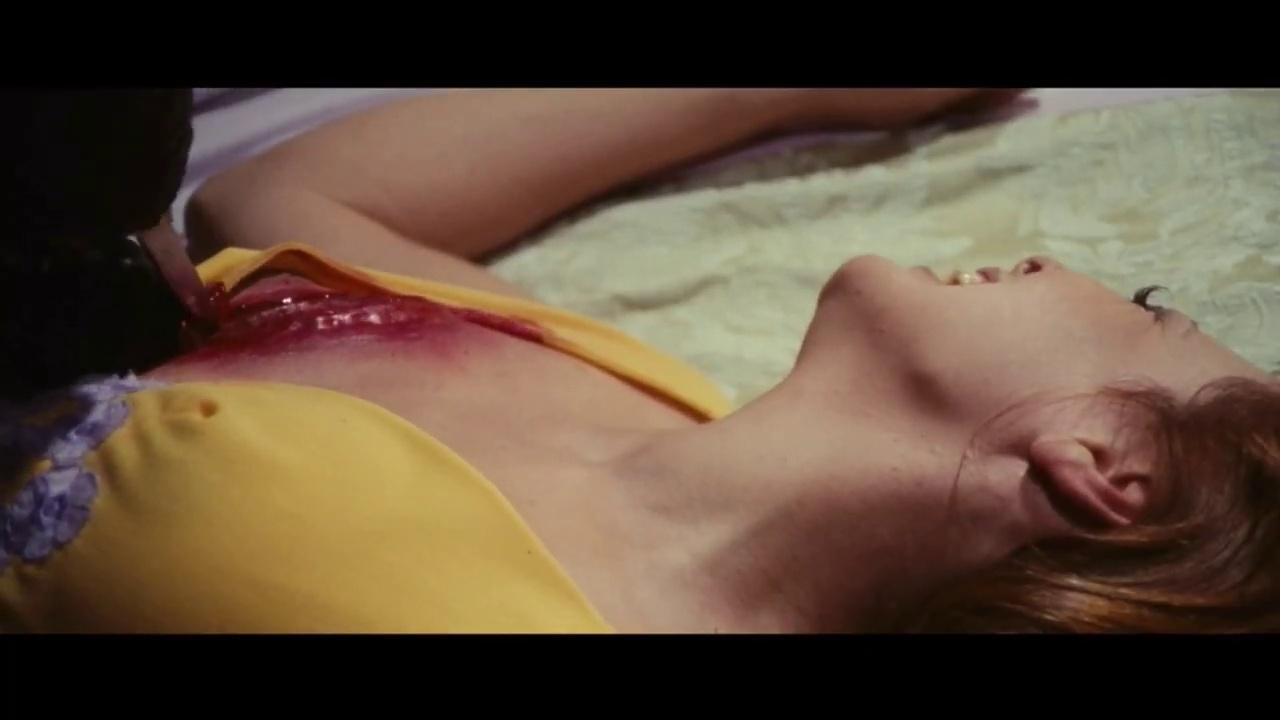Fire: (174, 245, 546, 361)
